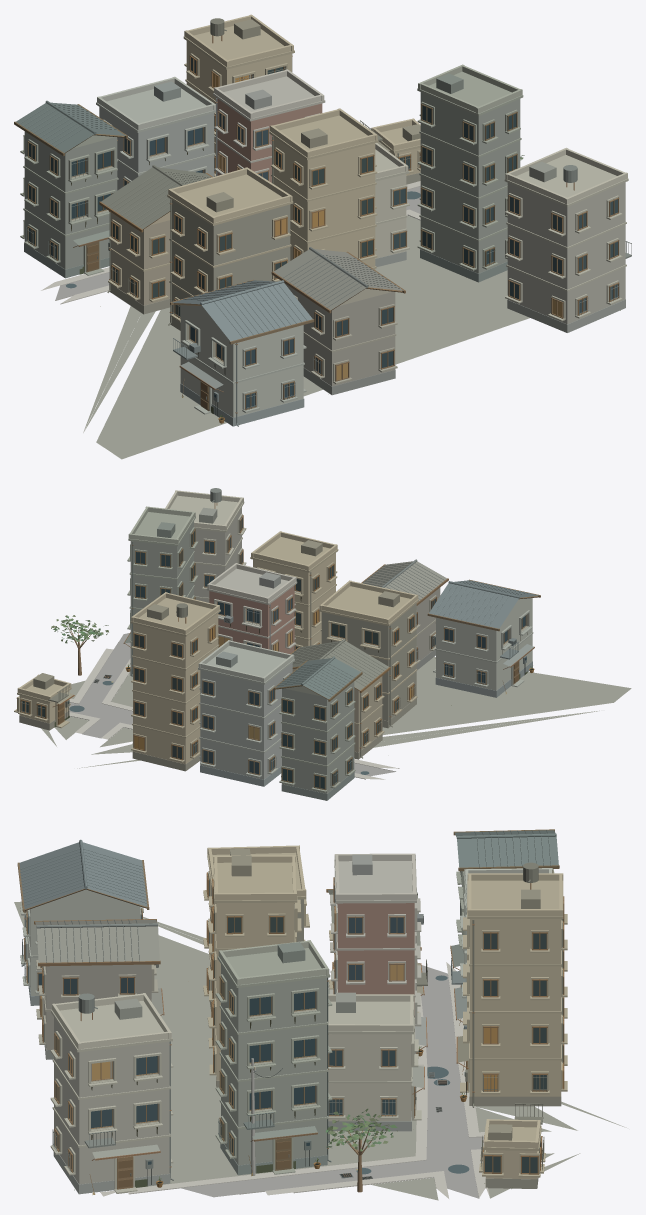
File: street_2_3.glb
The picture shows the model from 3 angles, top to bottom: view 1: azimuth 30°, elevation 25°; view 2: azimuth 150°, elevation 25°; view 3: azimuth 270°, elevation 25°; orthographic projection. The views are drawn at different scales.
Parts seen in each view (by area): view 1: concrete.044, trim.052, plaster.052, ground.061, graybrick.051, wood.052, roof_tile.036, glass.052, roof_metal.052, metal.052, brick.023, road.009 (+2 smaller); view 2: plaster.052, trim.052, concrete.044, ground.061, wood.052, roof_tile.036, graybrick.051, glass.052, roof_metal.052, metal.052, road.009, brick.023 (+3 smaller); view 3: trim.052, plaster.052, concrete.044, ground.061, roof_metal.052, wood.052, road.009, roof_tile.036, glass.052, paving.043, brick.023, metal.052 (+5 smaller).
Part boxes in pixels (x1=…): concrete.044: x1=24, y1=92, x2=625, y2=386; trim.052: x1=20, y1=26, x2=628, y2=414; plaster.052: x1=72, y1=14, x2=627, y2=417; ground.061: x1=83, y1=184, x2=529, y2=459; graybrick.051: x1=24, y1=172, x2=625, y2=426; wood.052: x1=14, y1=55, x2=619, y2=411; roof_tile.036: x1=16, y1=100, x2=368, y2=341; glass.052: x1=29, y1=57, x2=617, y2=408; roof_metal.052: x1=73, y1=19, x2=556, y2=388; metal.052: x1=26, y1=18, x2=631, y2=426; brick.023: x1=216, y1=97, x2=322, y2=182; road.009: x1=55, y1=186, x2=420, y2=300; plaster.052: x1=17, y1=490, x2=532, y2=764; trim.052: x1=14, y1=495, x2=533, y2=792; concrete.044: x1=130, y1=507, x2=440, y2=793; ground.061: x1=41, y1=657, x2=631, y2=768; wood.052: x1=16, y1=515, x2=540, y2=790; roof_tile.036: x1=275, y1=559, x2=538, y2=699; graybrick.051: x1=19, y1=603, x2=532, y2=800; glass.052: x1=21, y1=517, x2=526, y2=788; roof_metal.052: x1=33, y1=507, x2=533, y2=704; metal.052: x1=20, y1=488, x2=526, y2=785; road.009: x1=69, y1=633, x2=395, y2=776; brick.023: x1=209, y1=585, x2=294, y2=653; trim.052: x1=20, y1=852, x2=567, y2=1193; plaster.052: x1=27, y1=845, x2=563, y2=1179; concrete.044: x1=44, y1=900, x2=463, y2=1184; ground.061: x1=14, y1=901, x2=626, y2=1200; roof_metal.052: x1=35, y1=848, x2=540, y2=1158; wood.052: x1=17, y1=829, x2=564, y2=1192; road.009: x1=180, y1=965, x2=483, y2=1198; roof_tile.036: x1=19, y1=830, x2=558, y2=947; glass.052: x1=25, y1=873, x2=563, y2=1173; paving.043: x1=100, y1=962, x2=489, y2=1198; brick.023: x1=337, y1=903, x2=414, y2=1016; metal.052: x1=21, y1=862, x2=547, y2=1180.
Bounding box in the file's own units: 43.62 × 14.22 × 37.13.
